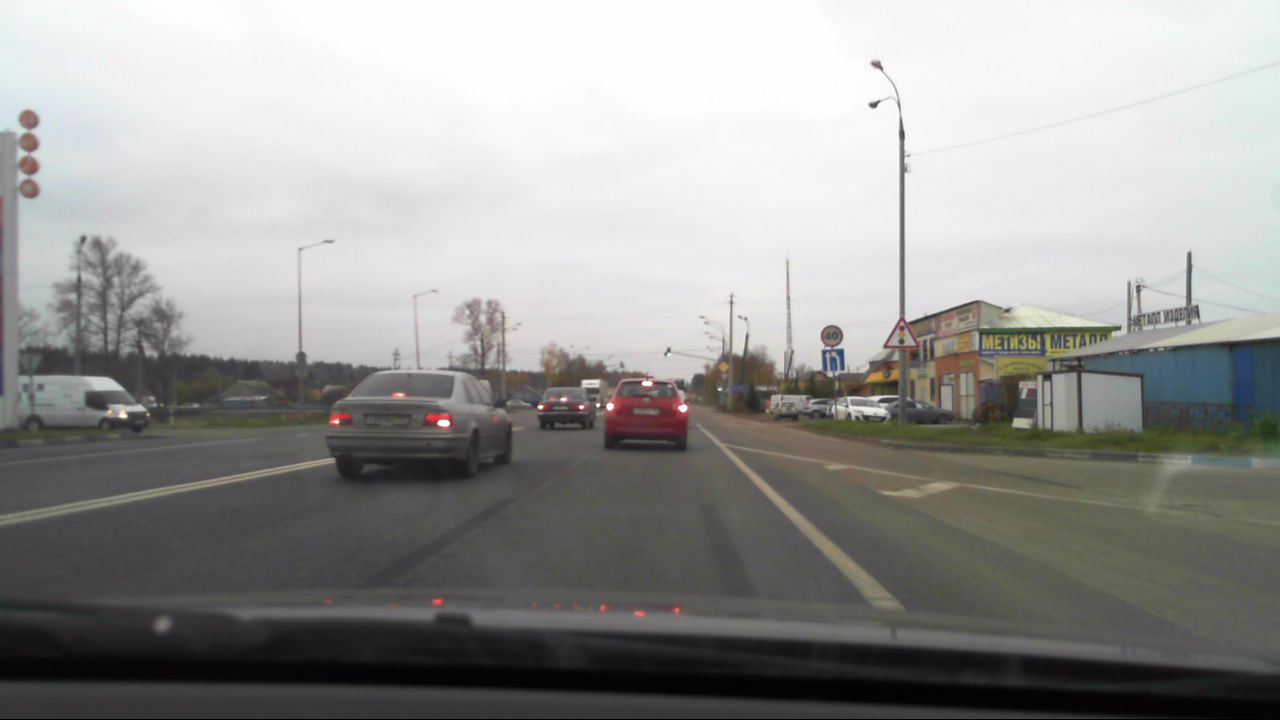speed_warning_40: (816, 323, 844, 347)
